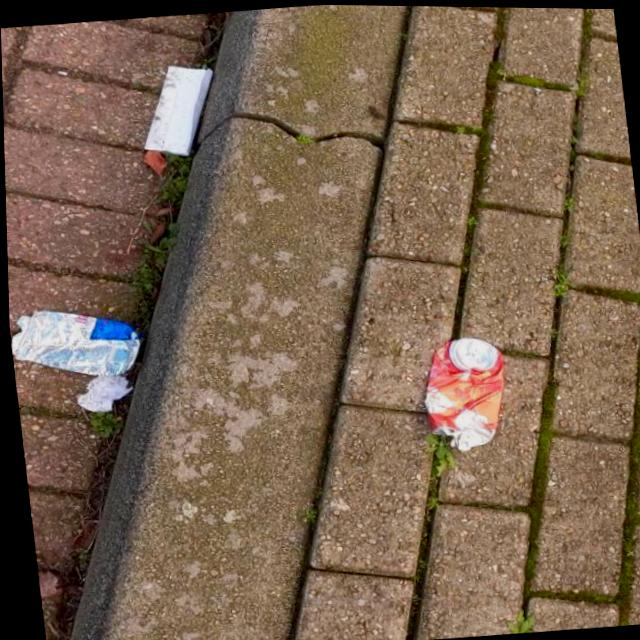Can-Metal: (412, 330, 511, 453), (7, 298, 144, 385)
Paper: (132, 58, 222, 160), (70, 369, 135, 413)
